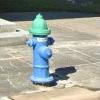a fire hydrant: (26, 16, 56, 85)
